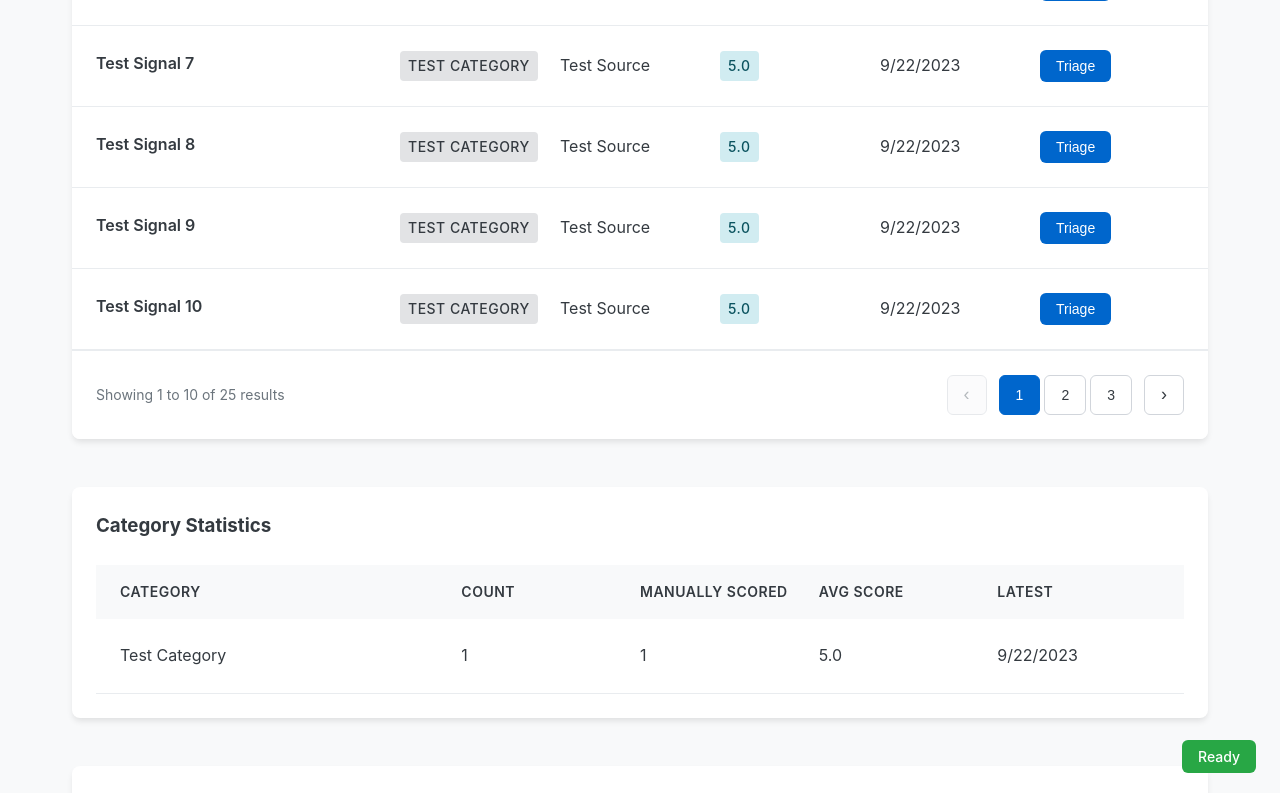
it: Dashboard › Pagination Integration › navigation to second page shows correct signals
This screenshot has width=1280, height=793.
(page scrolled)
Note: Click next page button
Click the button named "Go to next page".
click(1164, 395)  # box [1144,375,1184,415]
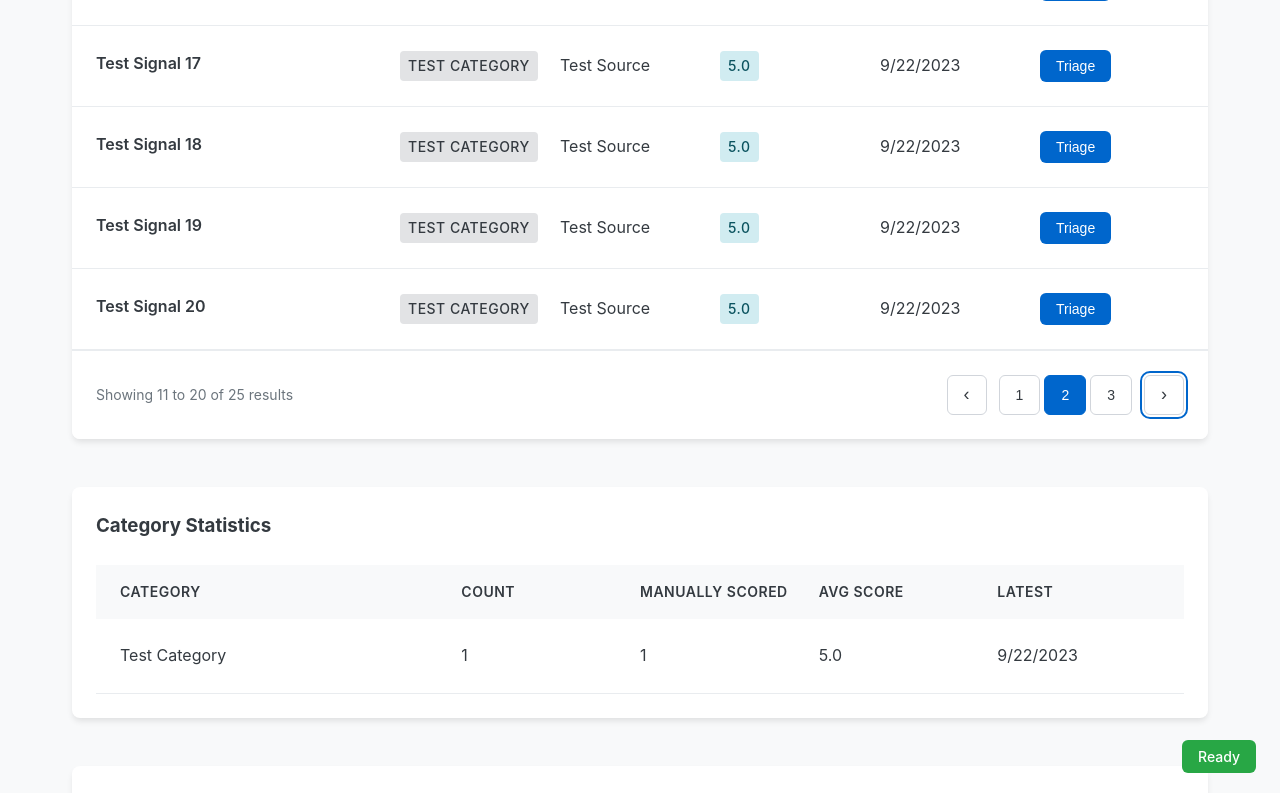
expect the text "Showing 11 to 20 of 25 results" is shown: met, box [96,386,293,403]
expect the text "Test Signal 20" is shown: met, box [96,294,206,320]
